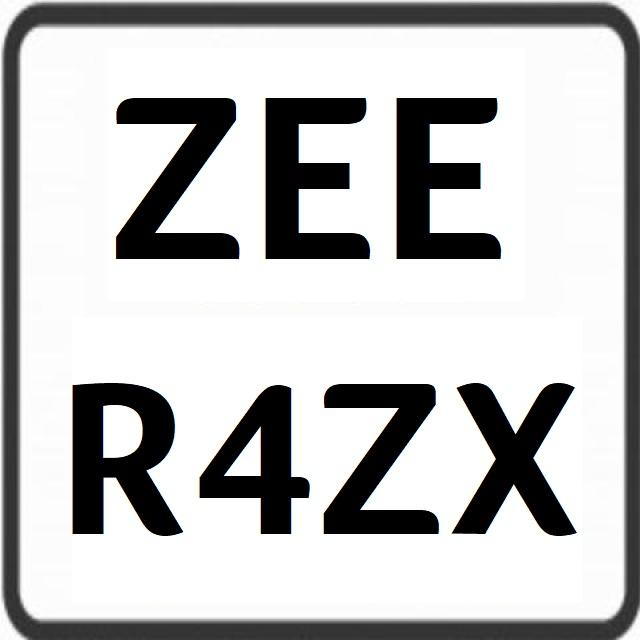4: (195, 376, 308, 544)
E: (386, 90, 511, 269), (256, 88, 376, 270)
R: (60, 377, 186, 546)
X: (449, 377, 582, 547)
Z: (111, 93, 245, 270), (317, 374, 445, 546)
